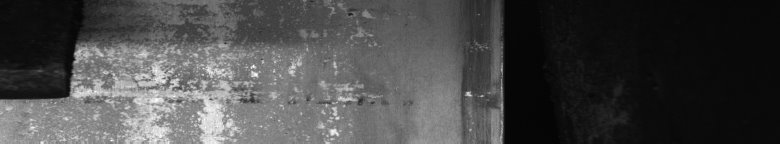kb: (92, 4, 379, 136)
